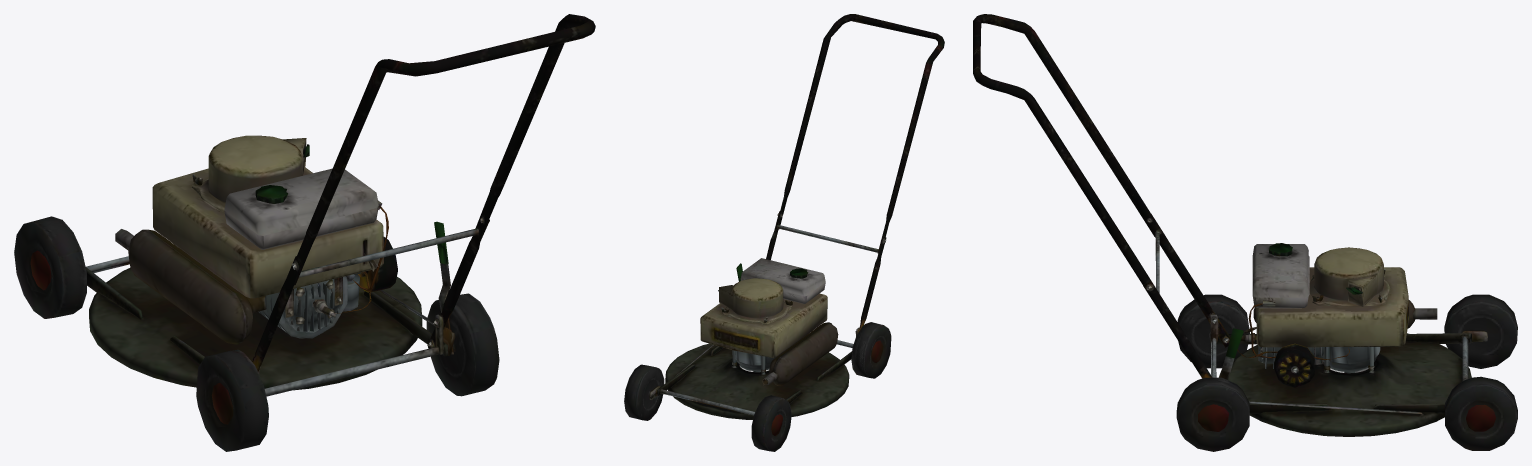
Rendered from g_mower.glb.
3 renders of one model, left to right at view 1: azimuth 30°, elevation 25°; view 2: azimuth 150°, elevation 25°; view 3: azimuth 270°, elevation 25°, orthographic. The views are drawn at different scales.
Visible parts, largest first — view 1: defaultMaterial; view 2: defaultMaterial; view 3: defaultMaterial.
Boxes of the visible parts, x1,y1,x2,y2 form: defaultMaterial: (14, 14, 595, 451); defaultMaterial: (624, 14, 944, 451); defaultMaterial: (973, 14, 1517, 451).
Size of the model in its own units: 0.6152 by 1 by 1.36.
1 material, 1 textured.
